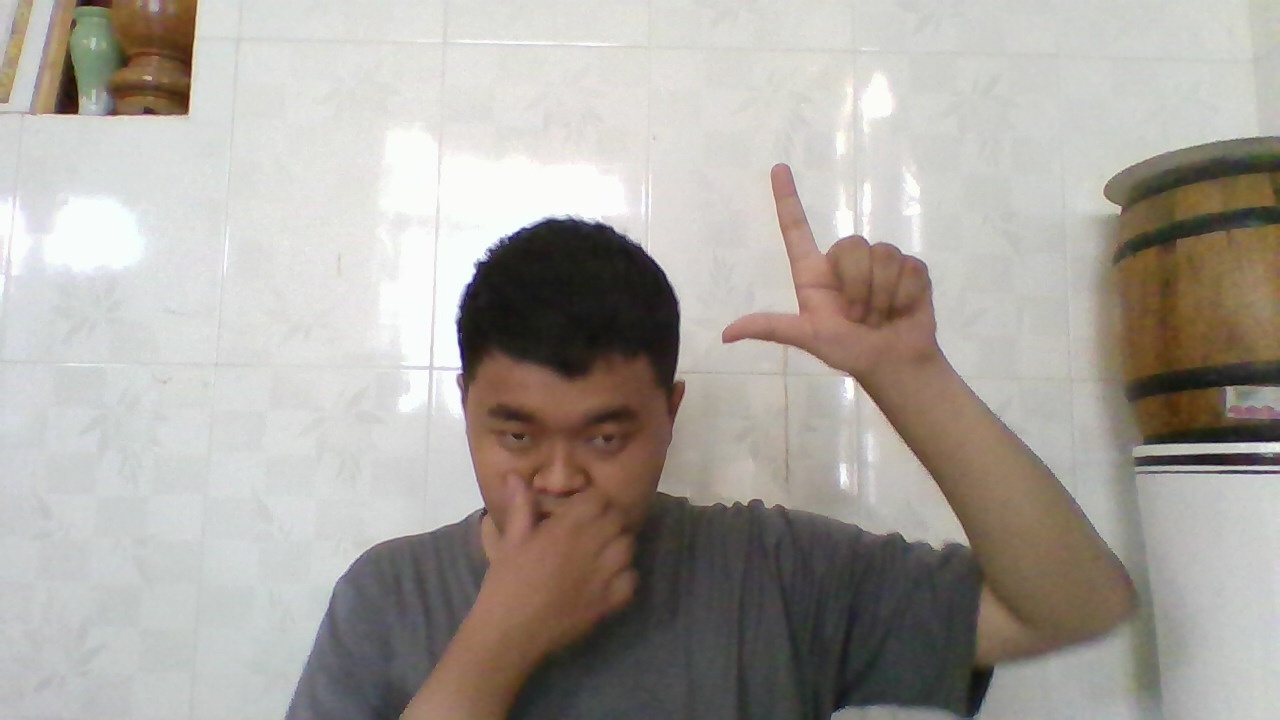L: (713, 152, 929, 381)
